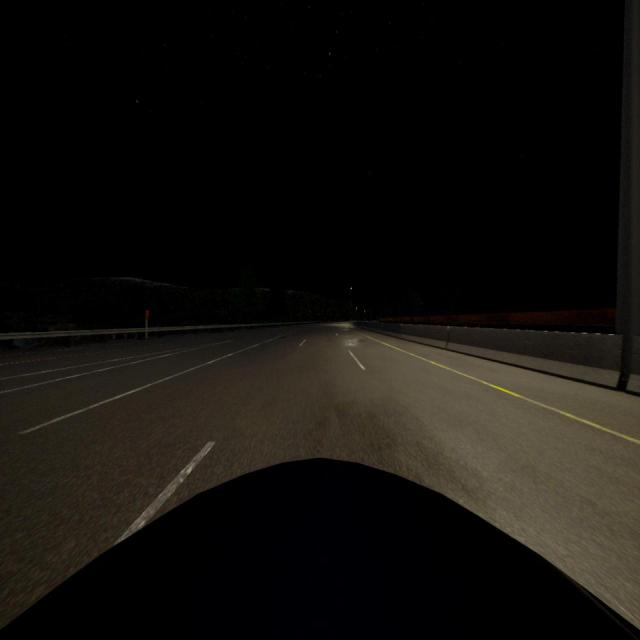Vehicle: (0, 459, 640, 639)
